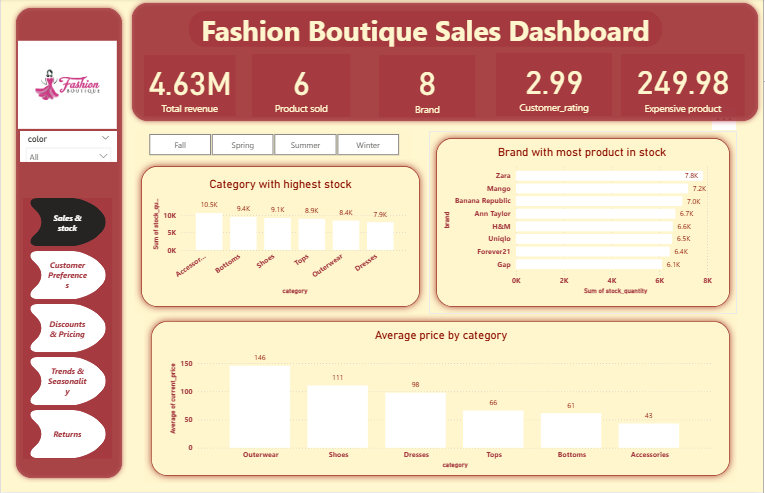

This screenshot's page, from the dashboard's own definition file:
{"tool":"powerbi","page":{"name":"Sales & stock","canvas":[1280,830],"ordinal":0},"visuals":[{"type":"shape","box":[240.2,530.8,996.1,283.9],"z":0},{"type":"shape","box":[719,223.4,517.4,307.4],"z":1000},{"type":"shape","box":[223.4,270.4,492.2,260.4],"z":2000},{"type":"clusteredColumnChart","title":"Category with highest stock","fields":{"Category":["fashion_boutique_dataset.category"],"Y":["fashion_boutique_dataset.stock_quantity"]},"box":[250.3,300.7,438.4,201.6],"z":3000},{"type":"clusteredColumnChart","title":"Average price by category","fields":{"Category":["fashion_boutique_dataset.category"],"Y":["fashion_boutique_dataset.current_price"]},"box":[278.8,554.3,920.5,240.2],"z":4000},{"type":"shape","box":[16.8,8.4,194.9,806.3],"z":5000},{"type":"image","box":[23.5,21.8,176.4,248.6],"z":6000},{"type":"clusteredBarChart","title":"Brand with most product in stock","fields":{"Category":["fashion_boutique_dataset.brand"],"Y":["fashion_boutique_dataset.stock_quantity"]},"box":[739.1,246.9,473.7,255.3],"z":7000},{"type":"pageNavigator","box":[37,336,149.5,438.4],"z":8000},{"type":"shape","box":[211.7,0,1068.3,215],"z":9000},{"type":"card","fields":{"Values":["fashion_boutique_dataset.Total revenue"]},"box":[239.6,96.2,153.5,102.9],"z":10000},{"type":"card","fields":{"Values":["fashion_boutique_dataset.brand"]},"box":[634.3,96.2,162,104.6],"z":11000},{"type":"card","fields":{"Values":["fashion_boutique_dataset.customer_rating"]},"box":[831.5,92.4,194.9,105.8],"z":12000},{"type":"card","fields":{"Values":["fashion_boutique_dataset.current_price"]},"box":[1040.9,94.5,207.5,104.6],"z":13000},{"type":"card","fields":{"Values":["fashion_boutique_dataset.category"]},"box":[421.7,94.5,165.3,106.3],"z":14000},{"type":"slicer","fields":{"Values":["fashion_boutique_dataset.color"]},"box":[31.9,223.4,162.9,52.1],"z":15000},{"type":"shape","box":[315.8,21.8,794.5,60.5],"z":16000},{"type":"slicer","fields":{"Values":["fashion_boutique_dataset.season"]},"box":[223.4,221.7,468.7,48.7],"z":17000}]}

Visuals, with their boxes in screenshot pixels (x1, y1, x2, y2), scaled from the page's 1280x830 canvas onto the 765x493 screenshot:
shape: left=144, top=315, right=739, bottom=484
shape: left=430, top=133, right=739, bottom=315
shape: left=134, top=161, right=428, bottom=315
"Category with highest stock" clusteredColumnChart: left=150, top=179, right=412, bottom=298
"Average price by category" clusteredColumnChart: left=167, top=329, right=717, bottom=472
shape: left=10, top=5, right=127, bottom=484
image: left=14, top=13, right=119, bottom=161
"Brand with most product in stock" clusteredBarChart: left=442, top=147, right=725, bottom=298
pageNavigator: left=22, top=200, right=111, bottom=460
shape: left=127, top=0, right=764, bottom=128
card - fashion_boutique_dataset.Total revenue: left=143, top=57, right=235, bottom=118
card - fashion_boutique_dataset.brand: left=379, top=57, right=476, bottom=119
card - fashion_boutique_dataset.customer_rating: left=497, top=55, right=613, bottom=118
card - fashion_boutique_dataset.current_price: left=622, top=56, right=746, bottom=118
card - fashion_boutique_dataset.category: left=252, top=56, right=351, bottom=119
slicer - fashion_boutique_dataset.color: left=19, top=133, right=116, bottom=164
shape: left=189, top=13, right=664, bottom=49
slicer - fashion_boutique_dataset.season: left=134, top=132, right=414, bottom=161
